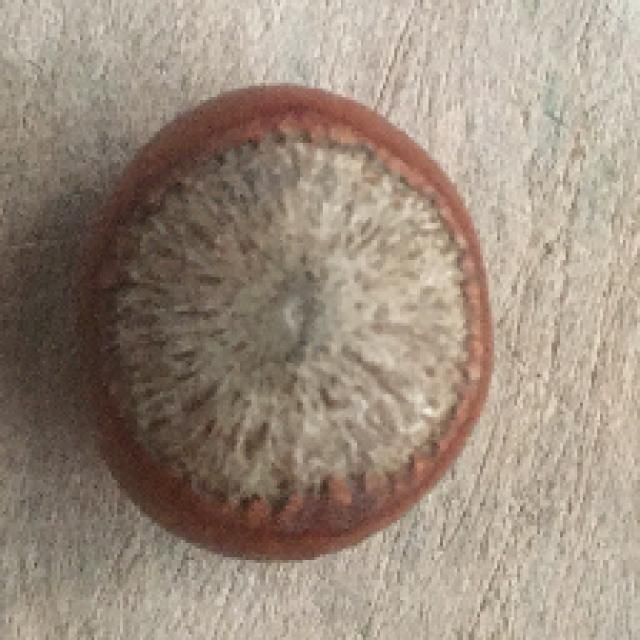qualityHazelnut: (69, 82, 496, 561)
